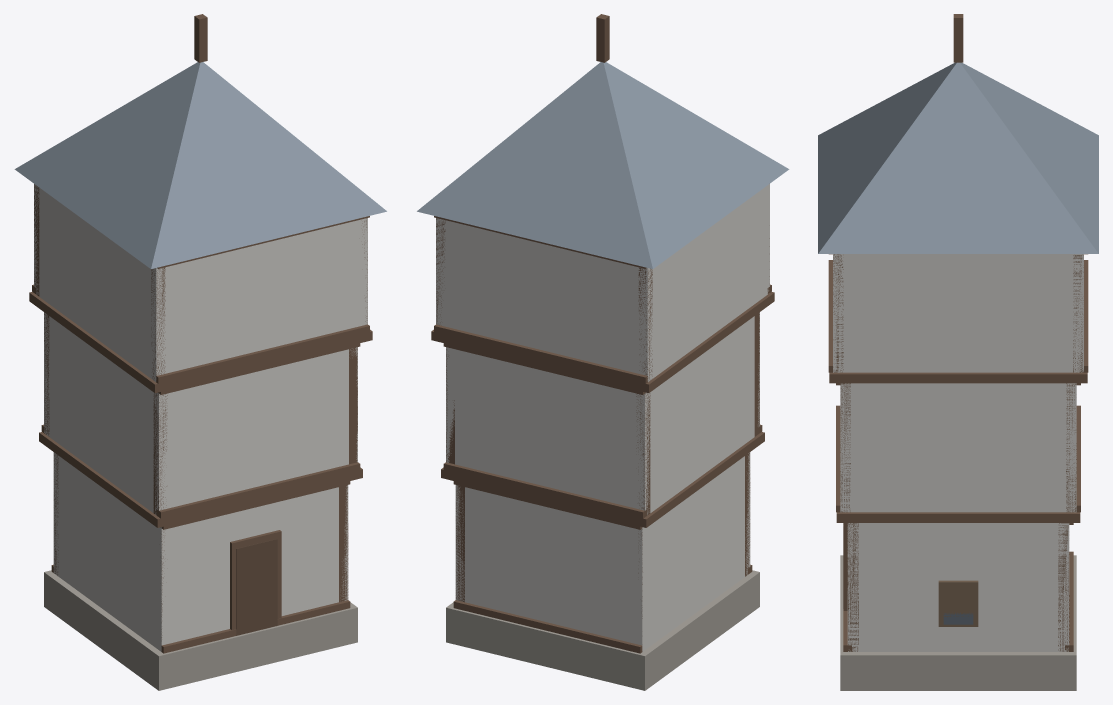
File: corner.glb
3 renders of one model, left to right at view 1: azimuth 30°, elevation 25°; view 2: azimuth 150°, elevation 25°; view 3: azimuth 270°, elevation 25°, orthographic. The views are drawn at different scales.
Bounding box in the file's own units: 5.7 × 14 × 5.7.
